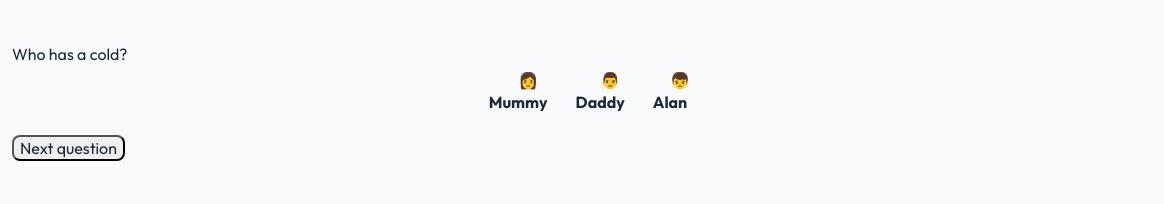
hq-stop-preview › walks an exit ticket through its questions
What coordinates should you click on to do the following:
click the button "Next question"
I would click on:
 (68, 148)
Its box is [12,135,125,161].
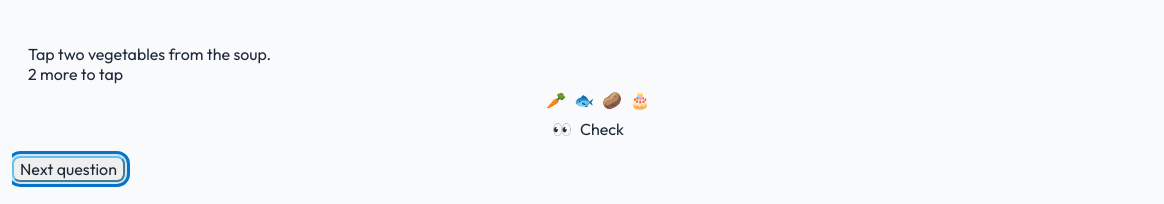
Expected: the text "Tap two vegetables from the soup." is shown, [28,44,271,64]
